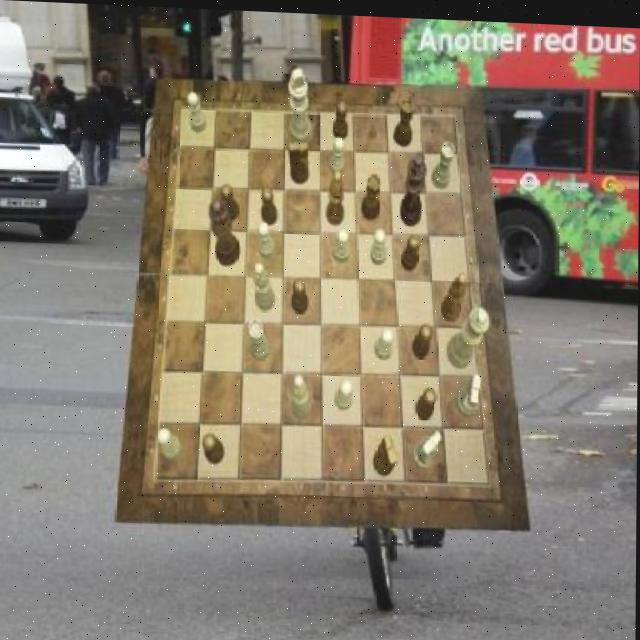bishop: (441, 266, 468, 318), (327, 167, 344, 222)
black-bishop: (402, 147, 428, 223)
black-king: (374, 430, 399, 472), (290, 139, 311, 183)
black-knight: (414, 319, 434, 356), (416, 384, 437, 418), (220, 183, 239, 220), (203, 432, 225, 463), (402, 231, 419, 268), (333, 98, 349, 137), (292, 275, 309, 311), (262, 184, 278, 222)
black-pawn: (209, 197, 240, 265)
black-queen: (395, 96, 415, 144), (362, 170, 381, 216)
black-rook: (254, 261, 276, 309), (293, 372, 313, 418)
white-bishop: (288, 65, 313, 145)
white-king: (413, 426, 443, 467), (458, 370, 483, 413)
white-knight: (159, 426, 184, 461), (187, 91, 207, 132), (257, 218, 276, 256), (375, 324, 395, 357), (329, 135, 345, 174), (334, 224, 351, 259), (336, 376, 354, 408), (371, 226, 387, 262)
white-pawn: (447, 300, 491, 364)
white-queen: (433, 138, 456, 185), (249, 318, 271, 359)
